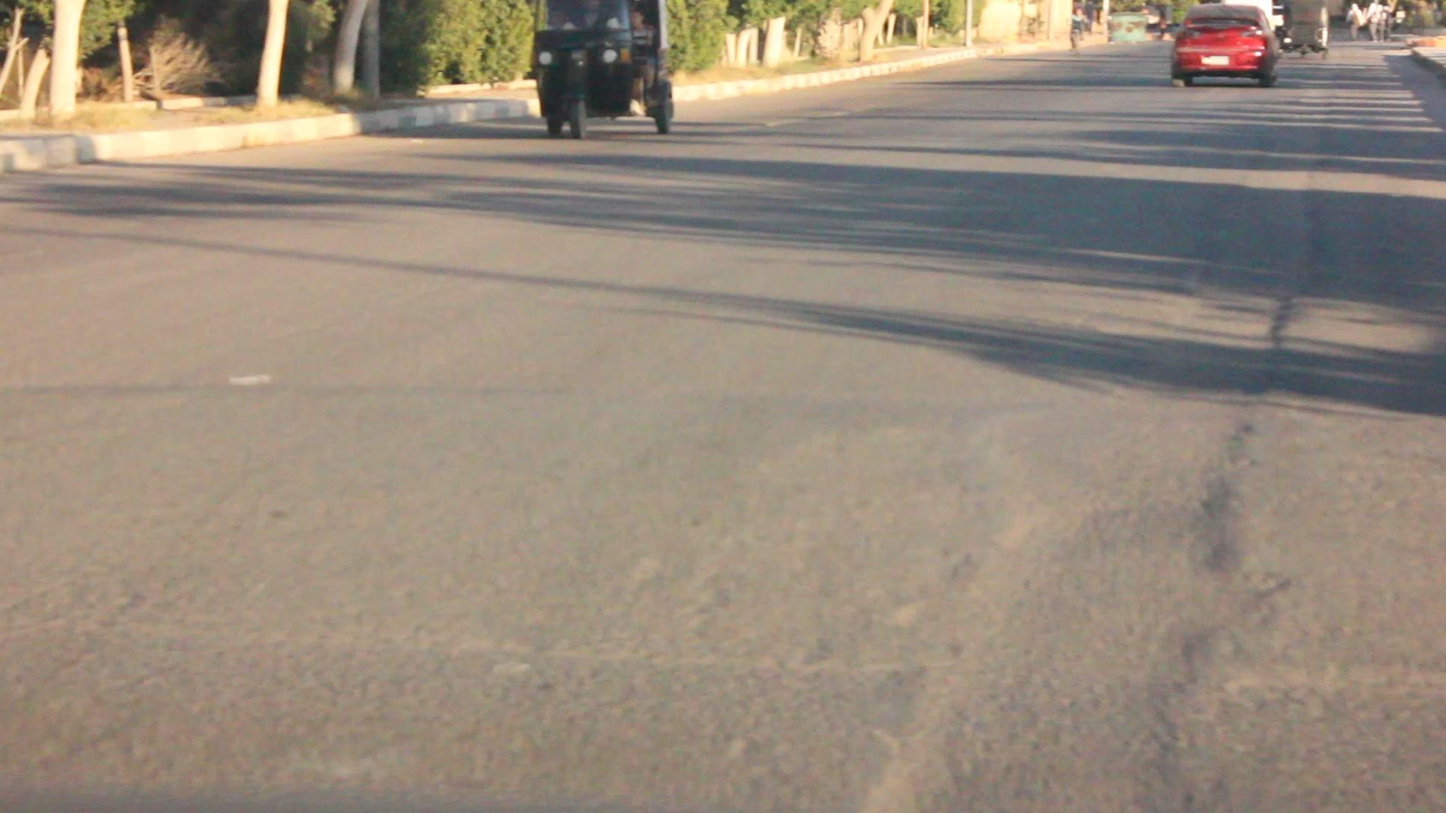Pothole: (864, 290, 1288, 812)
